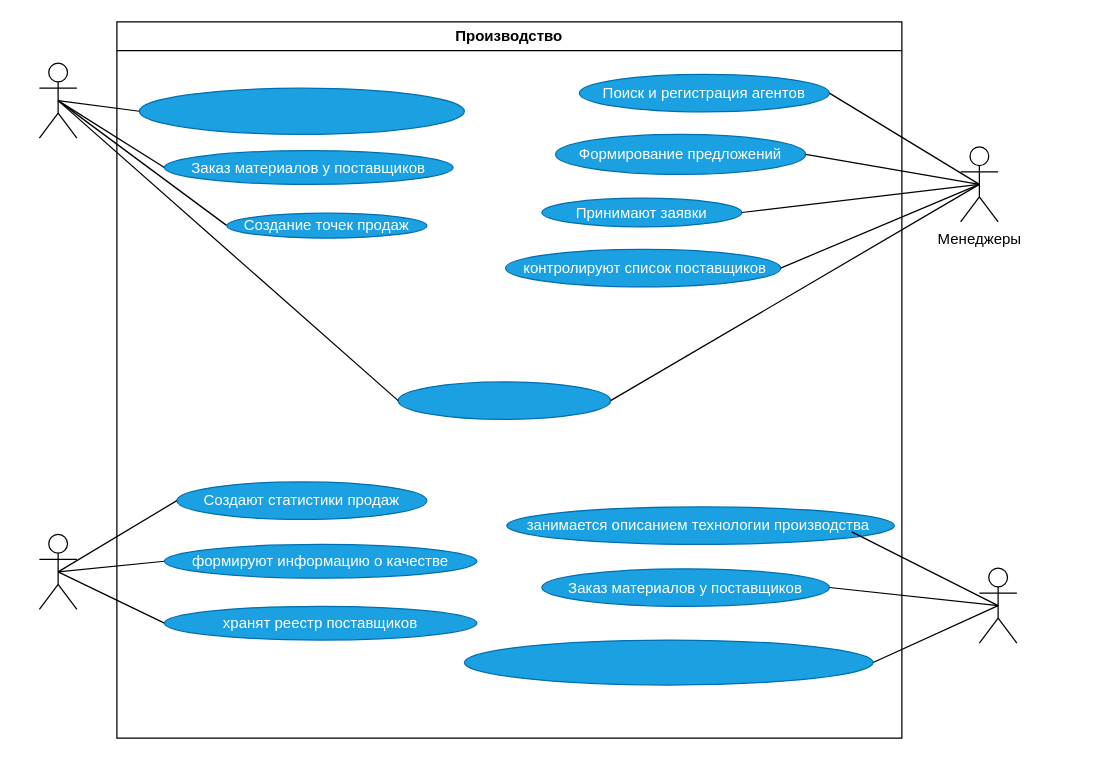
Image size: 1094x760. Some labels were removed from this diagram. Each missing label, with the box of its shape:
Агенты: (38, 62, 77, 138)
Аналитики: (38, 533, 77, 609)
контролируют качества партий готовой продукции: (463, 639, 873, 685)
мастер производства: (978, 567, 1017, 643)
проверки количества и качества продукции: (138, 87, 464, 134)
Согласование заявки: (397, 381, 611, 419)
